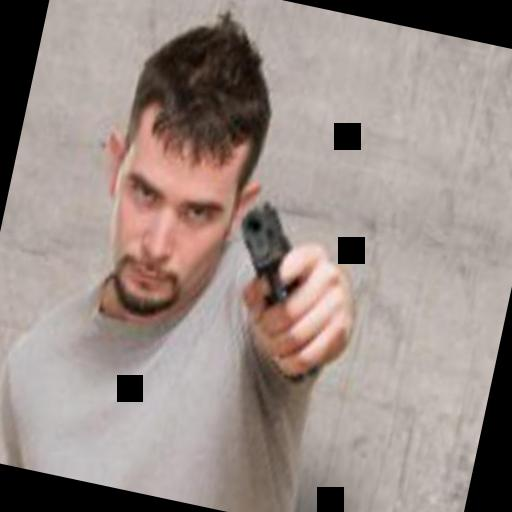Handgun: (220, 190, 314, 304)
